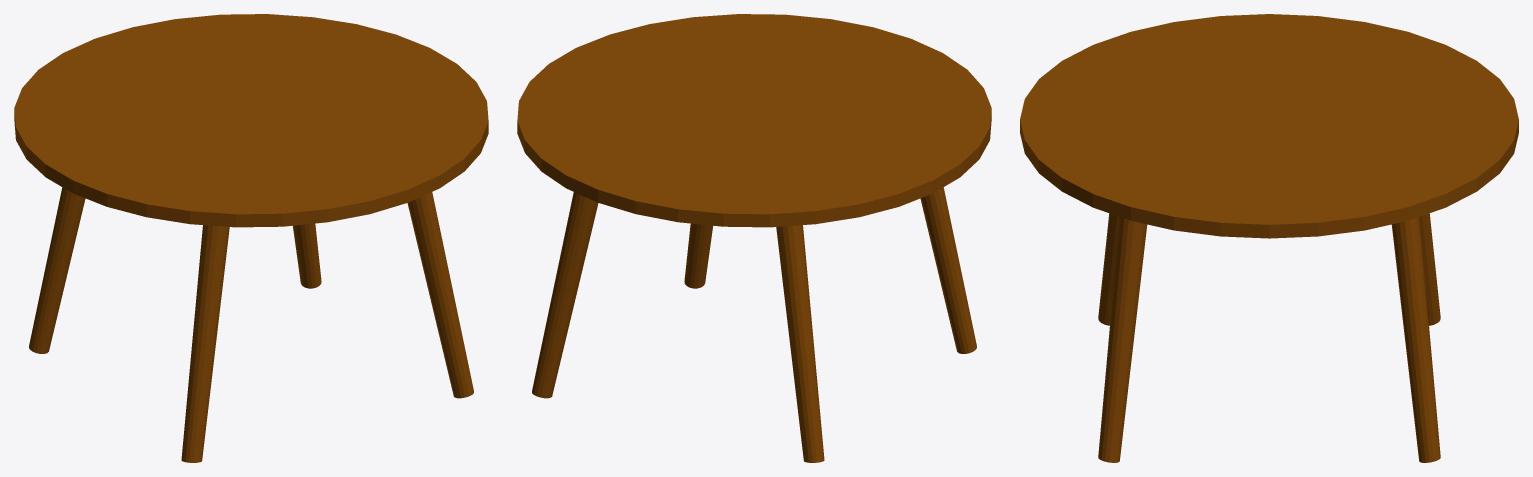
File: Tisch rund.fbx
3 views of the same model, side by side, from view 1: azimuth 30°, elevation 25°; view 2: azimuth 150°, elevation 25°; view 3: azimuth 270°, elevation 25° (orthographic). The views are drawn at different scales.
Visible parts, largest first — view 1: runder tisch; view 2: runder tisch; view 3: runder tisch.
Boxes of the visible parts, x1,y1,x2,y2 form: runder tisch: (14, 14, 488, 462); runder tisch: (517, 14, 991, 462); runder tisch: (1020, 14, 1518, 462).
Size of the model in its own units: 609 by 366 by 609.
